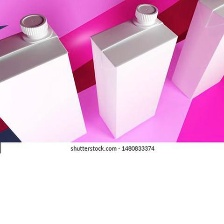carton: (87, 1, 180, 140), (0, 11, 88, 142), (167, 0, 224, 100)
